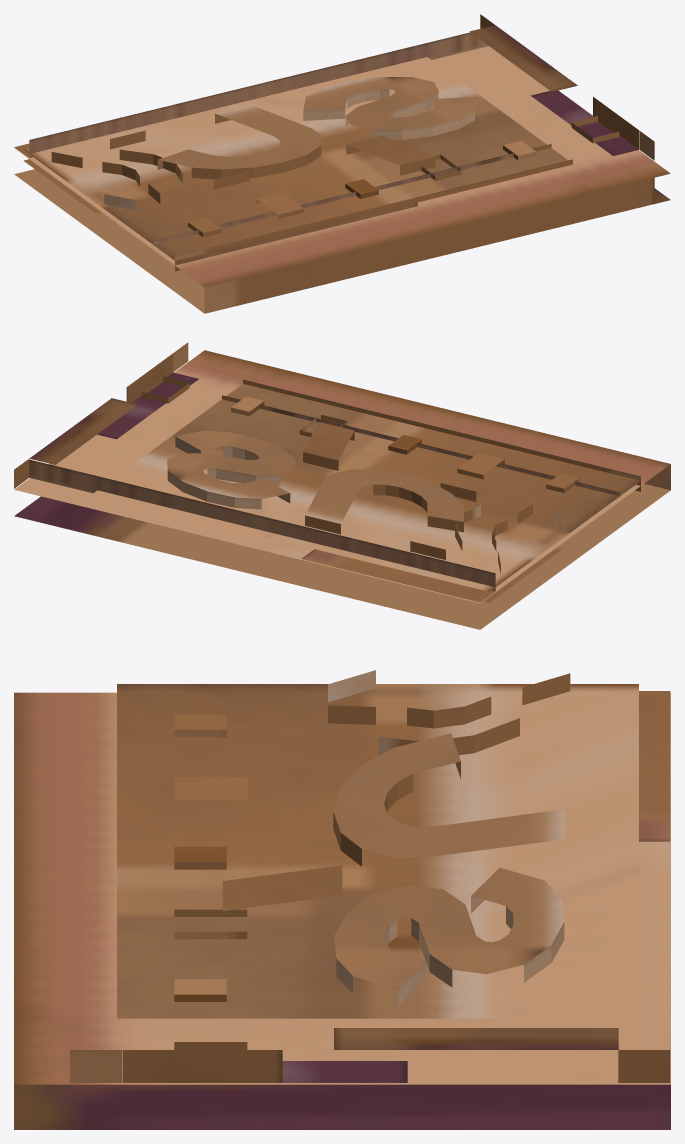
Rendered from section-7.obj.
3 views of the same model, one above another, from view 1: azimuth 30°, elevation 25°; view 2: azimuth 150°, elevation 25°; view 3: azimuth 270°, elevation 25° (orthographic). The views are drawn at different scales.
Bounding box in the file's own units: 0.888 × 0.0845 × 0.629.
